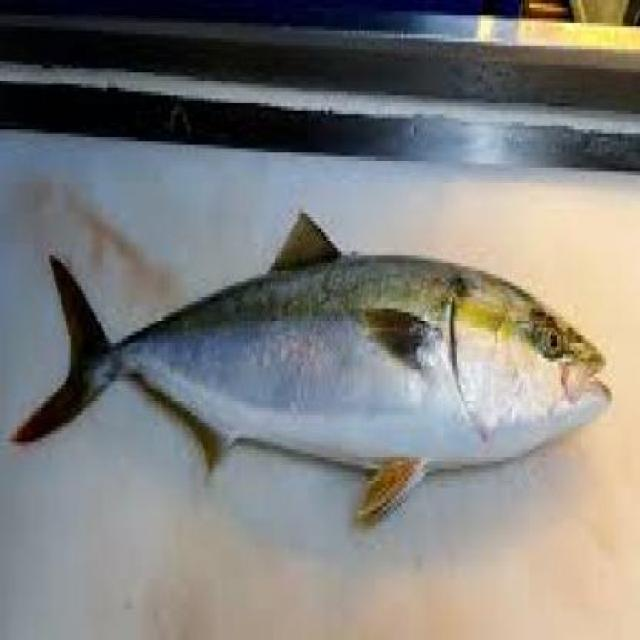Kingfish: (6, 203, 616, 534)
